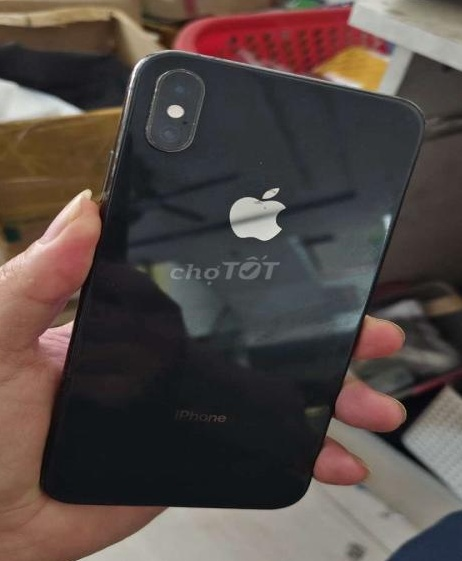scratch: (141, 73, 162, 149), (254, 181, 285, 214), (184, 118, 204, 134), (252, 154, 273, 169)
